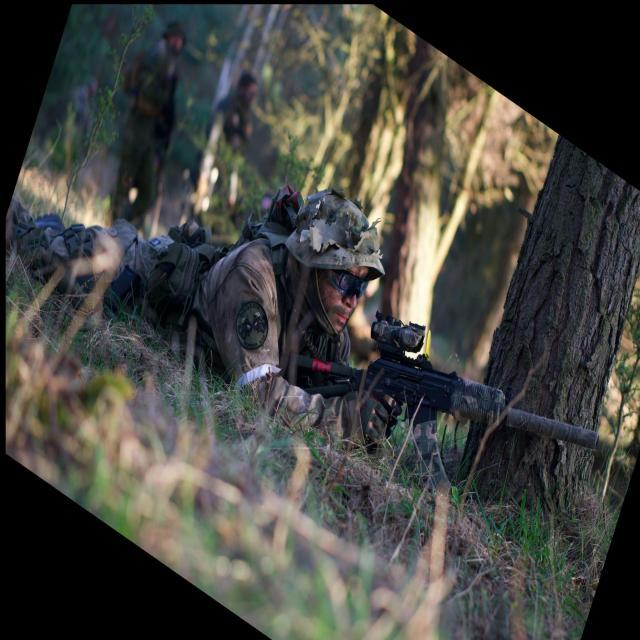weapon: (285, 310, 601, 454)
